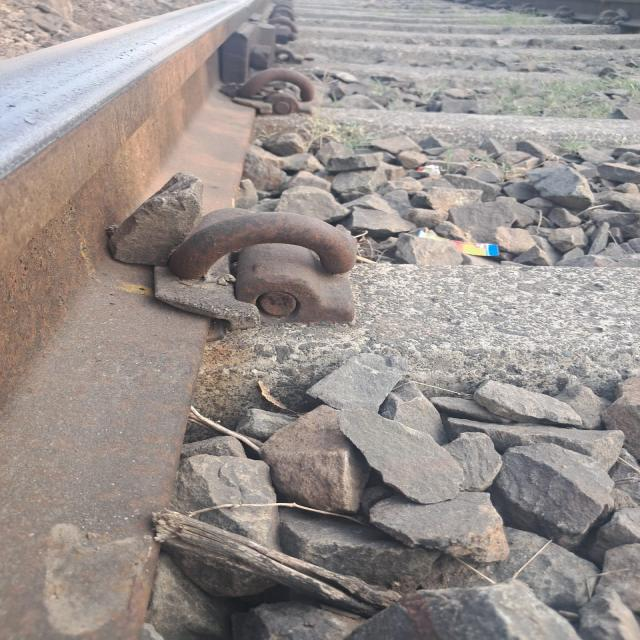correct: (134, 189, 469, 363)
